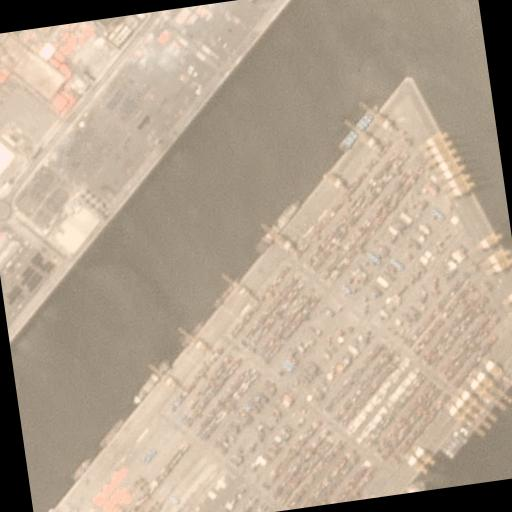ship: (432, 356, 512, 460), (252, 198, 308, 250), (335, 104, 386, 154), (128, 360, 174, 404), (95, 420, 127, 450), (210, 278, 240, 308), (178, 321, 205, 348), (68, 458, 92, 482)
